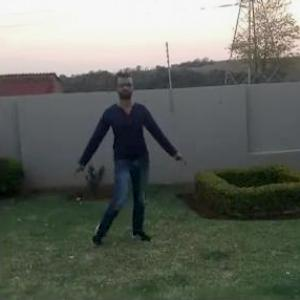land: (59, 62, 181, 267)
